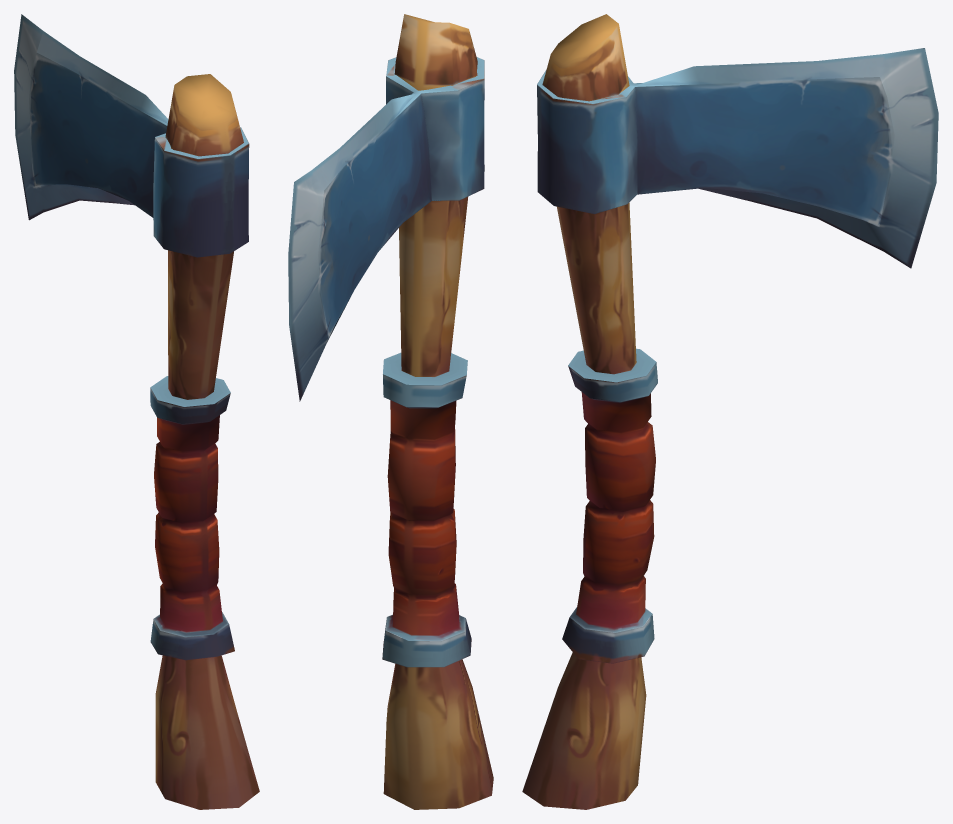
File: Mesh_Axe.fbx
3 renders of one model, left to right at view 1: azimuth 30°, elevation 25°; view 2: azimuth 150°, elevation 25°; view 3: azimuth 270°, elevation 25°, orthographic. The views are drawn at different scales.
Parts seen in each view (by area): view 1: M_Axe; view 2: M_Axe; view 3: M_Axe.
Part boxes in pixels (x1,y1,x2,y2): M_Axe: (14,14,259,809); M_Axe: (288,14,493,809); M_Axe: (522,14,938,809).
Bounding box in the file's own units: 21.52 × 160 × 78.87.
